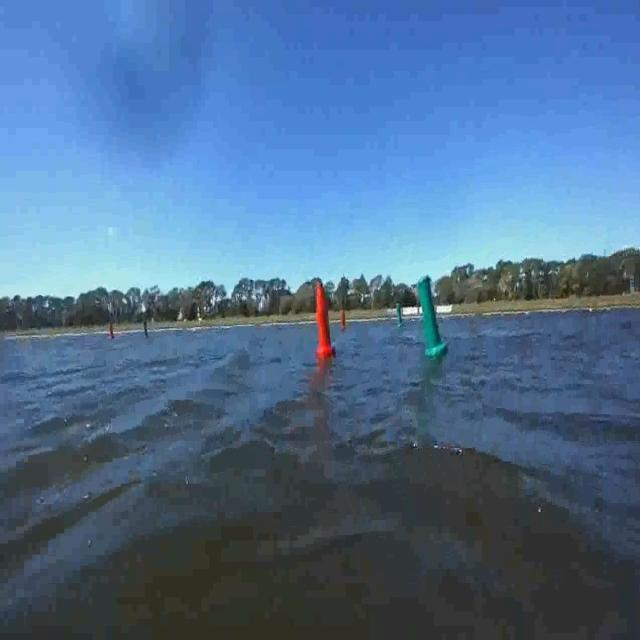green-column-buoy: (416, 275, 448, 357), (395, 304, 404, 330), (142, 314, 150, 337)
red-column-buoy: (313, 281, 334, 358), (108, 321, 116, 340), (342, 313, 348, 333)
